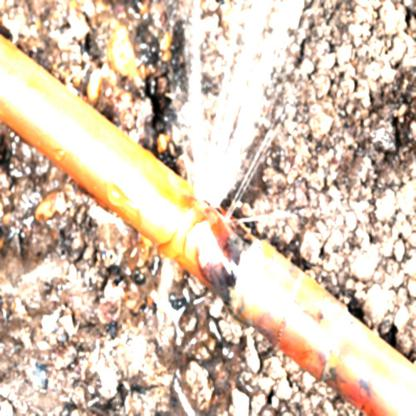burst: (157, 165, 276, 247)
